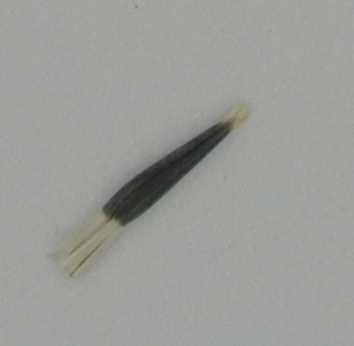เมล็ดดีติดกัน: (46, 99, 251, 282)
